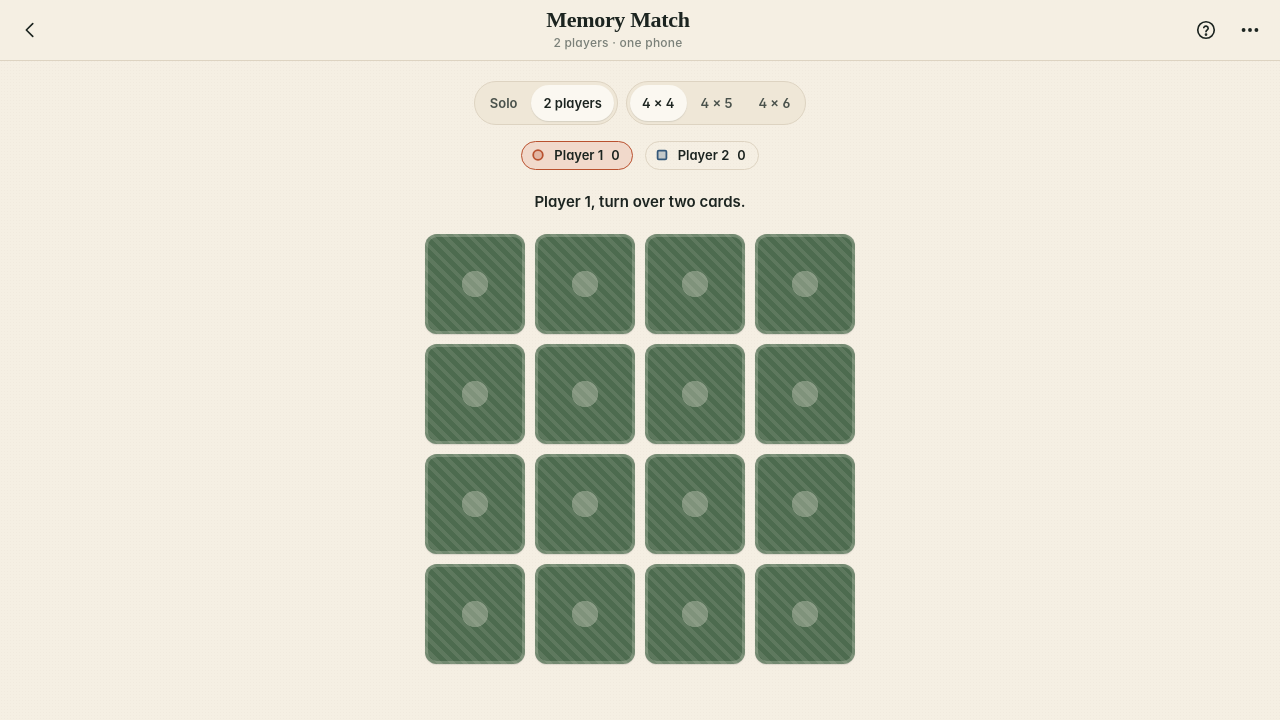
Test: Memory Match screen › two players: a pair keeps the turn and is credited to the finder
Click the button named "Card 1, face down": point(475, 284) [425,234,525,334]
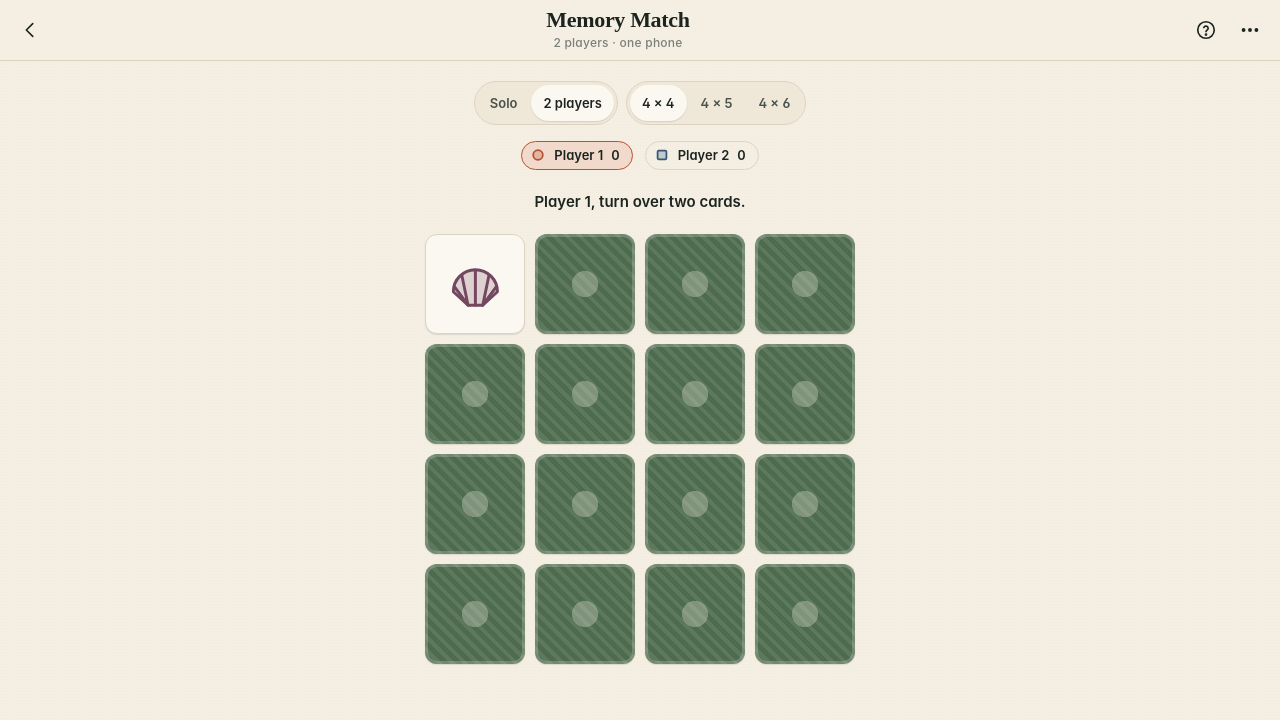
Click the button named "Card 4, face down": point(805, 284) [755,234,855,334]
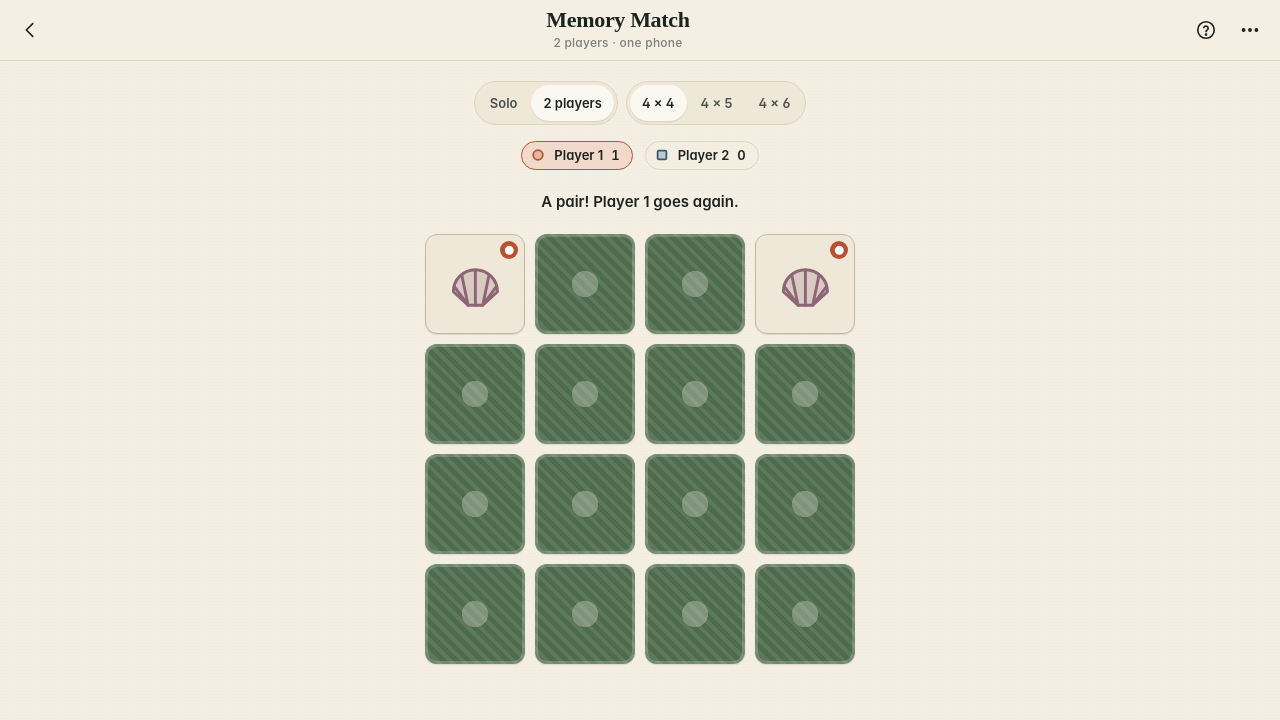
Expected: the text "A pair! Player 1 goes again." is shown, [541,192,739,211]
